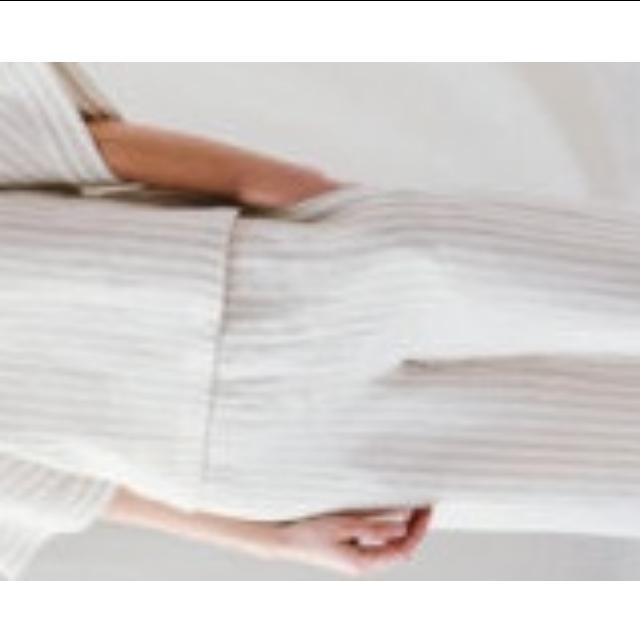linen: (0, 61, 640, 580)
